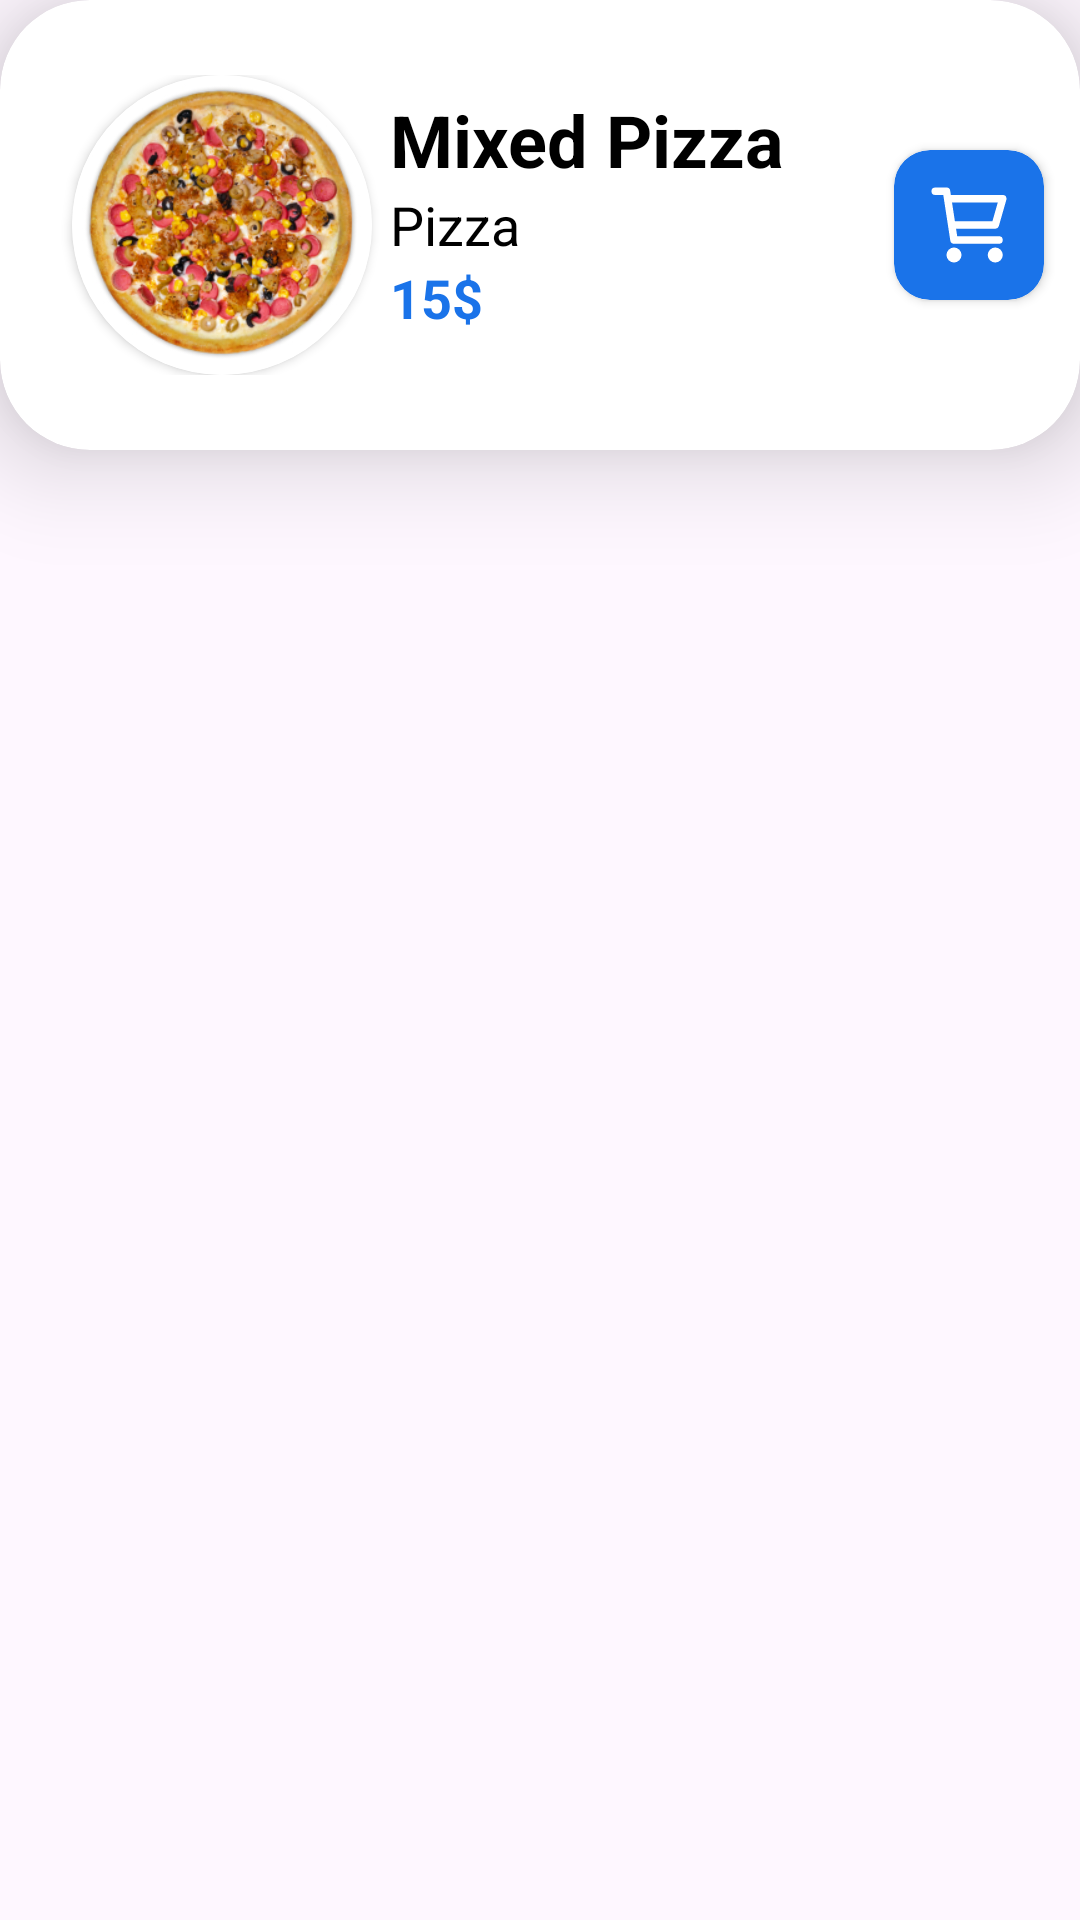

Icons on this 1080 x 1920 Android screen, each with the point to tap as point (x, y):
shop: point (969, 225)
